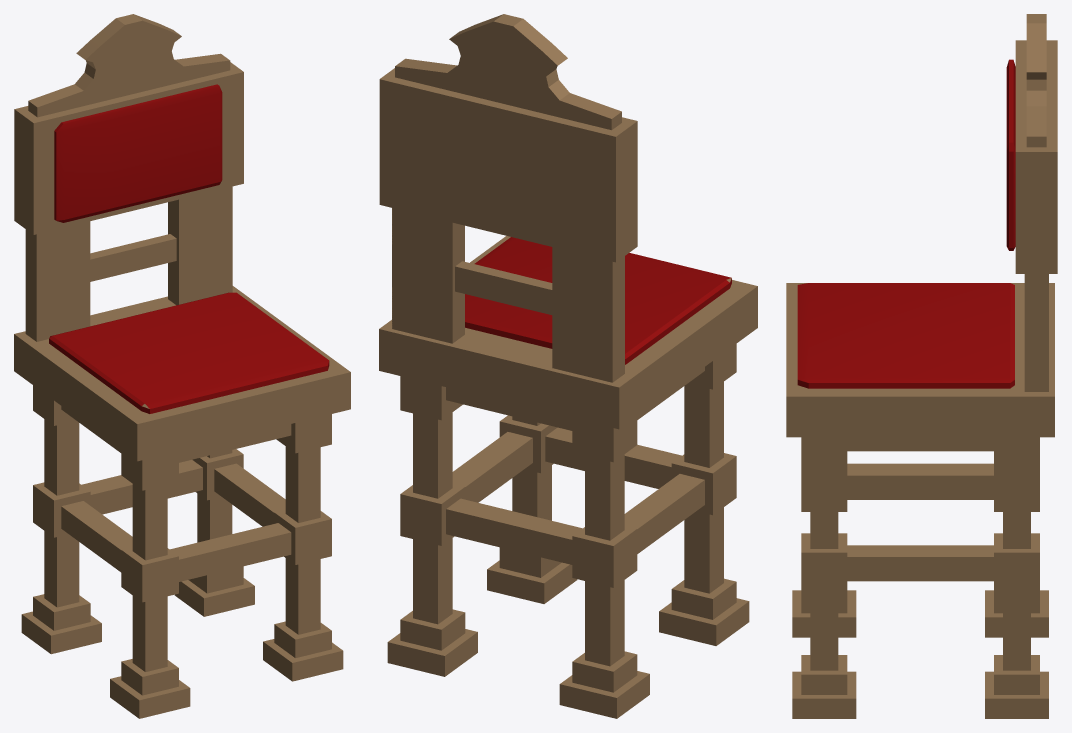
The model's file is Krzesło.fbx.
3 renders of one model, left to right at view 1: azimuth 30°, elevation 25°; view 2: azimuth 150°, elevation 25°; view 3: azimuth 270°, elevation 25°, orthographic. The views are drawn at different scales.
Visible parts, largest first — view 1: Krzesło; view 2: Krzesło; view 3: Krzesło.
Part boxes in pixels (x1,y1,x2,y2): Krzesło: (14,14,350,718); Krzesło: (379,14,757,718); Krzesło: (786,14,1057,718).
Bounding box in the file's own units: 30 × 79.54 × 30.31.
